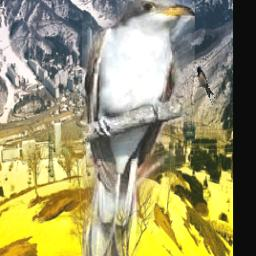Cuckoo: (82, 0, 195, 256)
Swallow: (197, 67, 219, 108)
